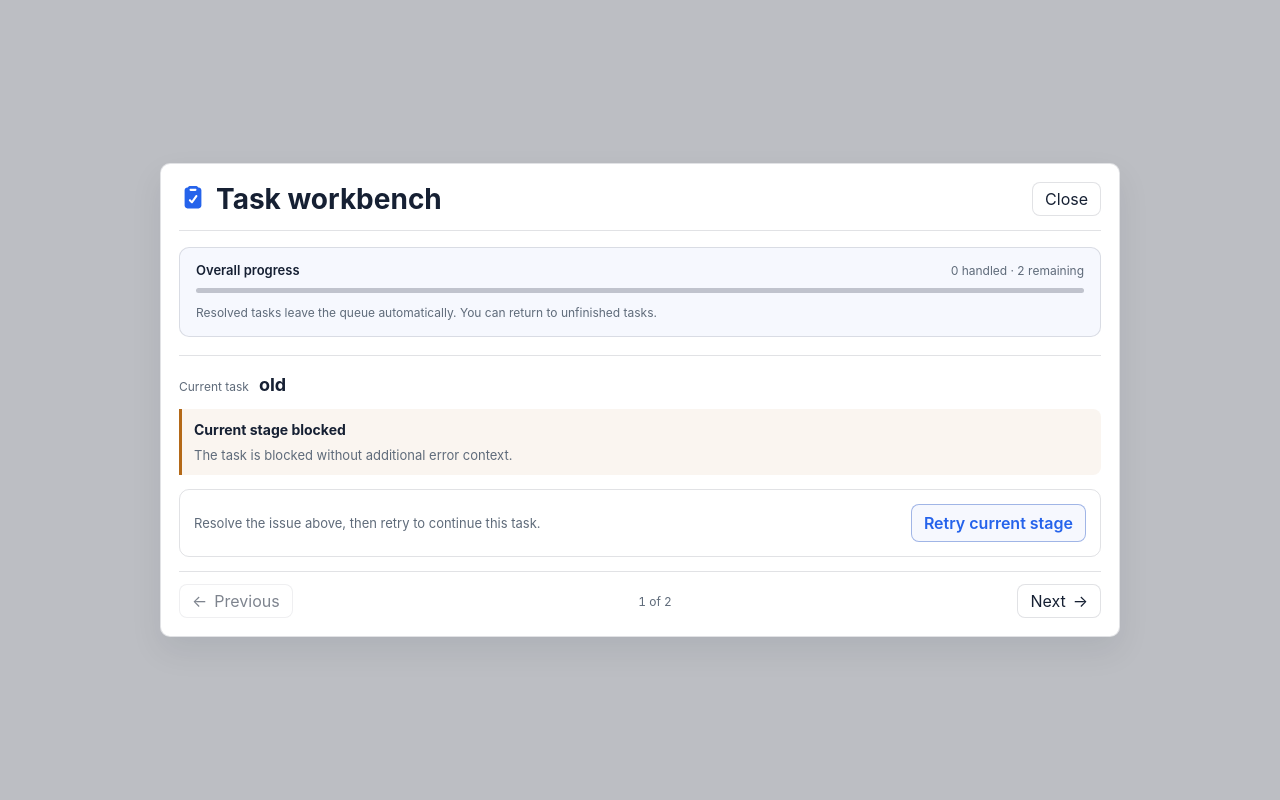
Test: processing queue › reviews only attention tasks, oldest first, and advances after retry
The width and height of the screenshot is (1280, 800).
Expected: the heading "old" is shown, x1=259 y1=374 x2=286 y2=395
Expected: the text "0 handled · 2 remaining" is shown, x1=951 y1=262 x2=1084 y2=278
Click the button "Retry current stage": (998, 524) x1=911 y1=504 x2=1086 y2=542
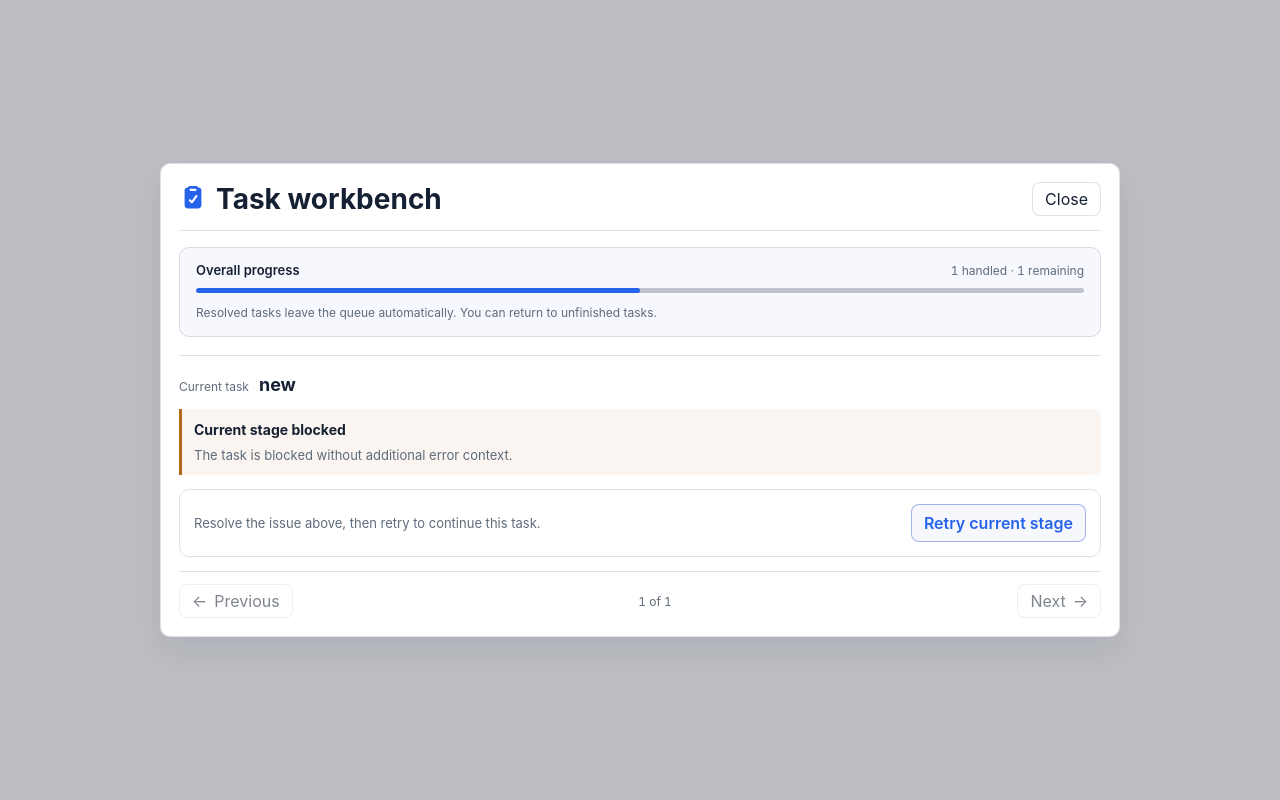
Expected: the heading "new" is shown, x1=259 y1=374 x2=296 y2=395
Expected: the text "1 handled · 1 remaining" is shown, x1=951 y1=262 x2=1084 y2=278
Click the button "Retry current stage": (998, 524) x1=911 y1=504 x2=1086 y2=542
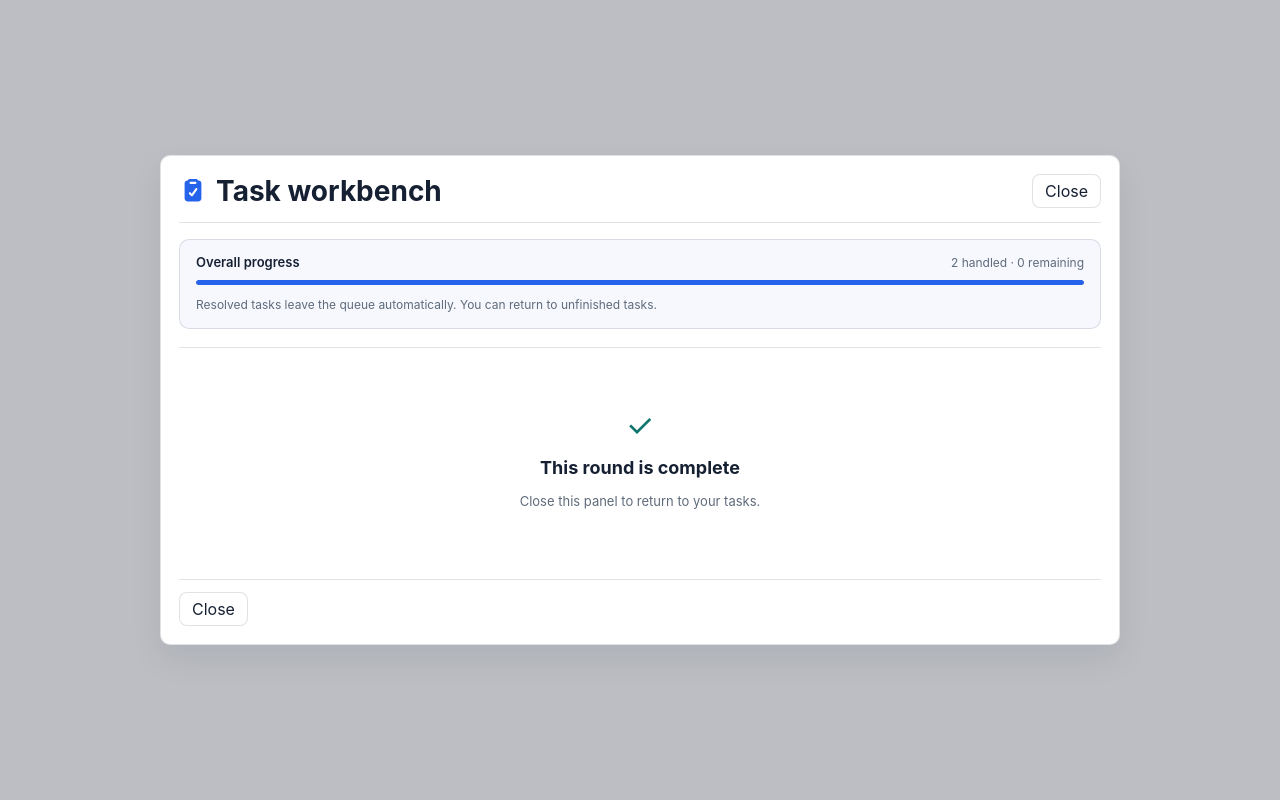
Expected: the heading "This round is complete" is shown, x1=540 y1=457 x2=740 y2=478
